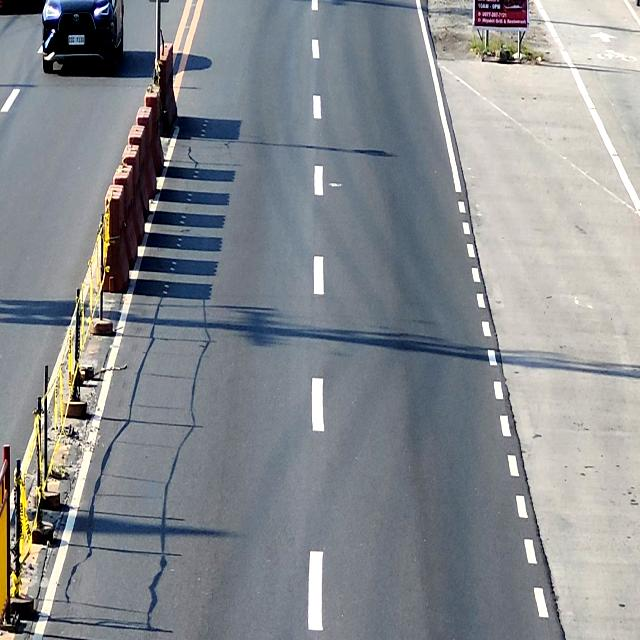Car: (41, 0, 125, 74)
License-Plate: (68, 35, 85, 45)
